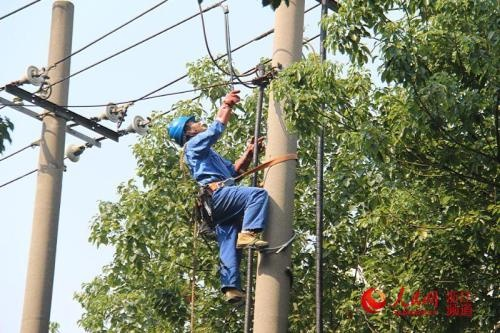blue: (166, 114, 205, 145)
